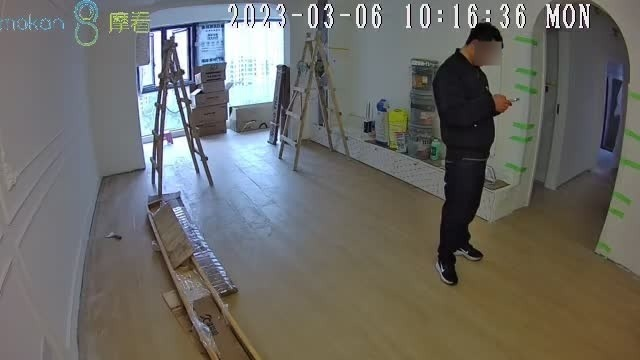people: (432, 21, 512, 285)
window: (155, 20, 288, 128)
